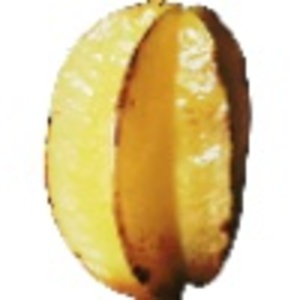carambola: (41, 1, 253, 300)
